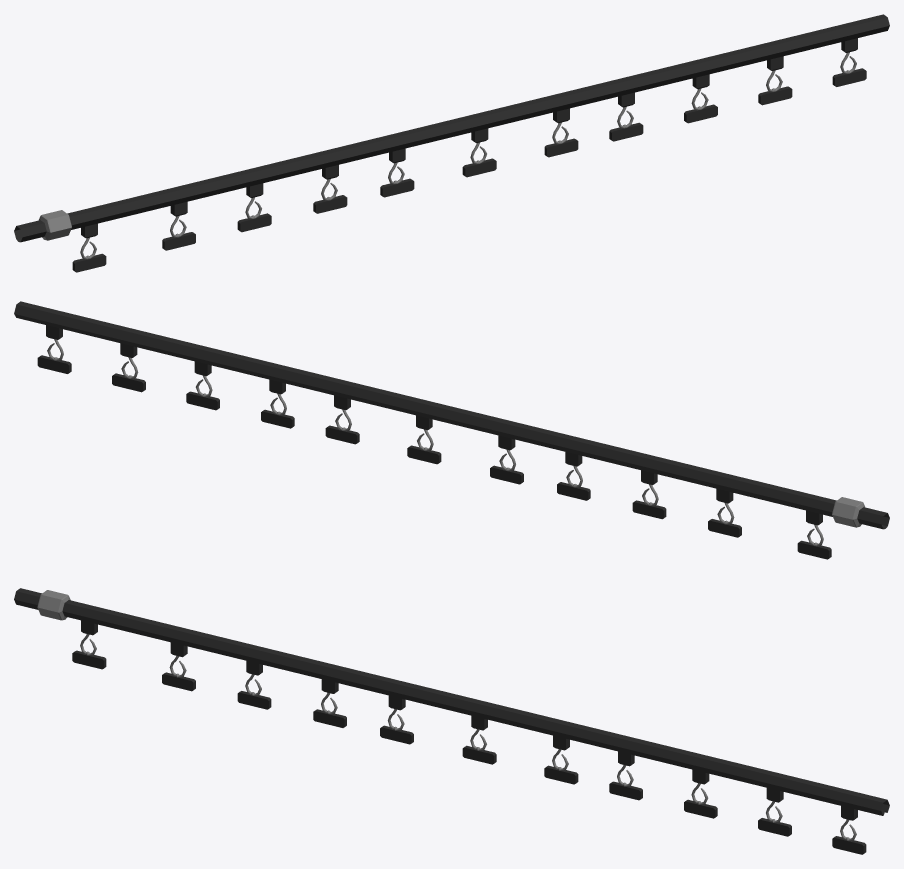
Rendered from CurtainBackdropRail.fbx.
3 renders of one model, top to bottom at view 1: azimuth 30°, elevation 25°; view 2: azimuth 150°, elevation 25°; view 3: azimuth 330°, elevation 25°, orthographic.
Parts seen in each view (by area): view 1: CurtainRail_2, CurtainRailHook_17, CurtainRailHook_14, CurtainRailHook_20, CurtainRailHook_21, CurtainRailHook_22, CurtainRailHook_18, CurtainRailHook_15, CurtainRailHook_19, CurtainRailHook_12, CurtainRailHook_13, CurtainRailHook_16; view 2: CurtainRail_2, CurtainRailHook_14, CurtainRailHook_20, CurtainRailHook_12, CurtainRailHook_16, CurtainRailHook_13, CurtainRailHook_17, CurtainRailHook_21, CurtainRailHook_15, CurtainRailHook_22, CurtainRailHook_18, CurtainRailHook_19; view 3: CurtainRail_2, CurtainRailHook_16, CurtainRailHook_18, CurtainRailHook_15, CurtainRailHook_21, CurtainRailHook_22, CurtainRailHook_12, CurtainRailHook_13, CurtainRailHook_14, CurtainRailHook_20, CurtainRailHook_17, CurtainRailHook_19.
Boxes of the visible parts, x1,y1,x2,y2 form: CurtainRail_2: (14, 14, 889, 242); CurtainRailHook_17: (462, 128, 496, 177); CurtainRailHook_14: (237, 183, 271, 232); CurtainRailHook_20: (684, 74, 717, 123); CurtainRailHook_21: (758, 56, 792, 105); CurtainRailHook_22: (832, 38, 866, 86); CurtainRailHook_18: (544, 108, 578, 157); CurtainRailHook_15: (313, 165, 347, 213); CurtainRailHook_19: (609, 92, 643, 141); CurtainRailHook_12: (72, 223, 106, 272); CurtainRailHook_13: (162, 201, 195, 250); CurtainRailHook_16: (380, 148, 414, 197); CurtainRail_2: (14, 301, 889, 529); CurtainRailHook_14: (632, 470, 666, 519); CurtainRailHook_20: (186, 361, 219, 410); CurtainRailHook_12: (797, 510, 831, 559); CurtainRailHook_16: (490, 435, 523, 484); CurtainRailHook_13: (708, 488, 741, 537); CurtainRailHook_17: (407, 415, 441, 464); CurtainRailHook_21: (112, 343, 145, 392); CurtainRailHook_15: (557, 452, 590, 500); CurtainRailHook_22: (37, 325, 71, 373); CurtainRailHook_18: (325, 395, 359, 444); CurtainRailHook_19: (261, 379, 294, 428); CurtainRail_2: (14, 588, 889, 815); CurtainRailHook_16: (380, 695, 413, 744); CurtainRailHook_18: (544, 735, 578, 784); CurtainRailHook_15: (313, 679, 346, 727); CurtainRailHook_21: (758, 788, 791, 836); CurtainRailHook_22: (832, 806, 866, 854); CurtainRailHook_12: (72, 620, 106, 669); CurtainRailHook_13: (162, 642, 195, 691); CurtainRailHook_14: (237, 661, 271, 709); CurtainRailHook_20: (684, 769, 717, 818); CurtainRailHook_17: (462, 715, 496, 764); CurtainRailHook_19: (609, 751, 642, 800).
Bounding box in the file's own units: 602 × 41.04 × 16.08.
